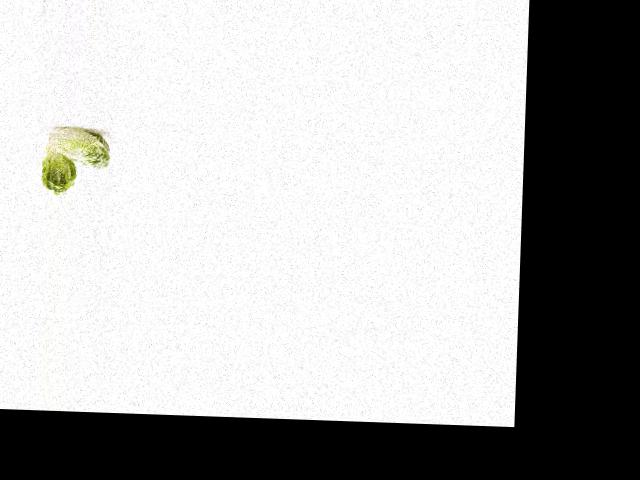lettuce: (43, 124, 114, 173)
